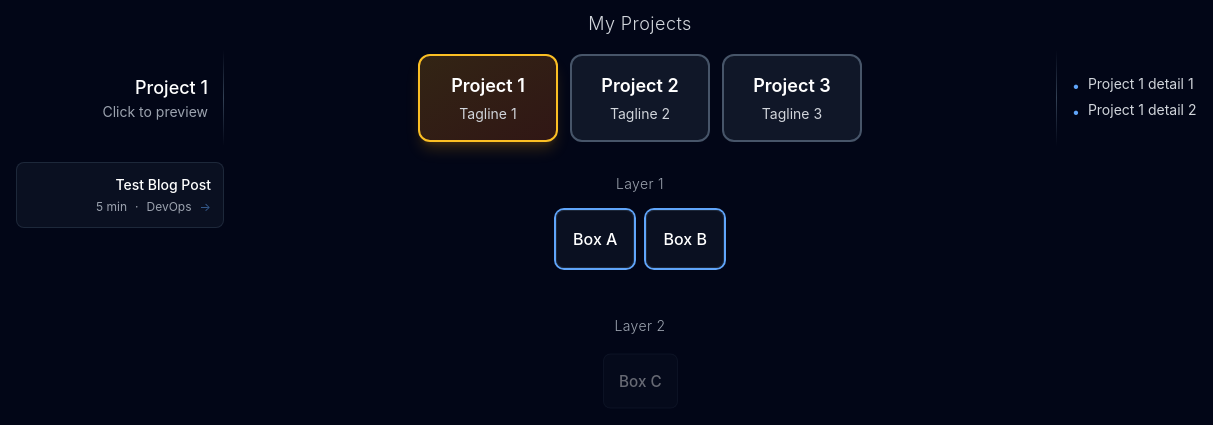
StackDiagram › blog posts pillar › updates posts when skill is clicked
Click Box A which has Docker tag
Click the button "Box A": {"x": 595, "y": 239} [556,210,634,268]
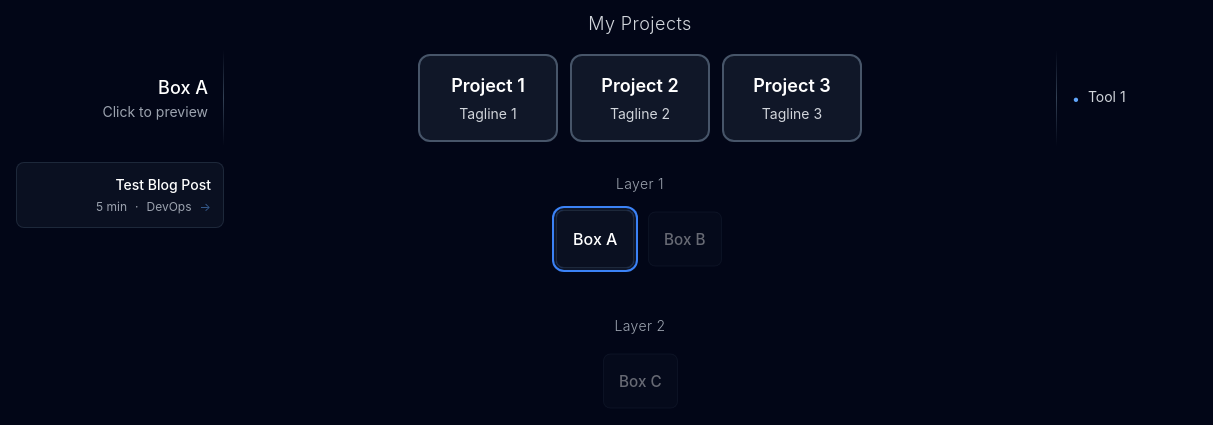
Now the heading "Box A" is shown, box [158,77,208,98]
